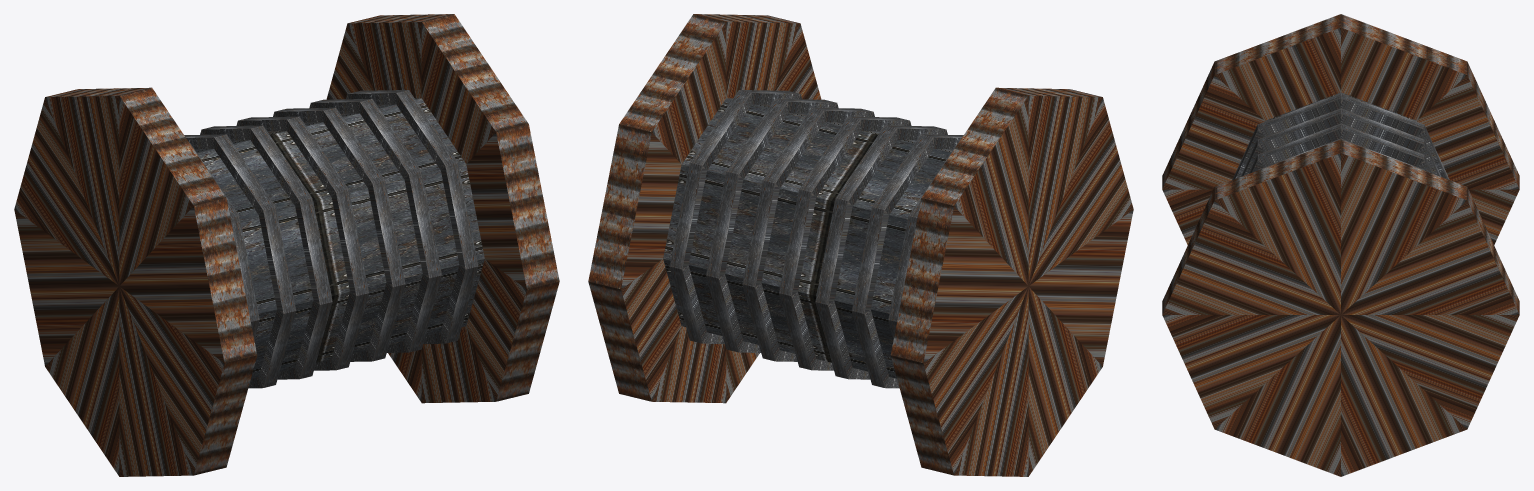
Rendered from cable-spool.obj.
3 renders of one model, left to right at view 1: azimuth 30°, elevation 25°; view 2: azimuth 150°, elevation 25°; view 3: azimuth 270°, elevation 25°, orthographic. The views are drawn at different scales.
Visible parts, largest first — view 1: cable-spool; view 2: cable-spool; view 3: cable-spool.
Boxes of the visible parts, x1=… form: cable-spool: x1=14, y1=14, x2=559, y2=476; cable-spool: x1=588, y1=14, x2=1133, y2=476; cable-spool: x1=1162, y1=14, x2=1519, y2=476.
Bounding box in the file's own units: 0.92 × 1 × 1.
1 material, 1 textured.
